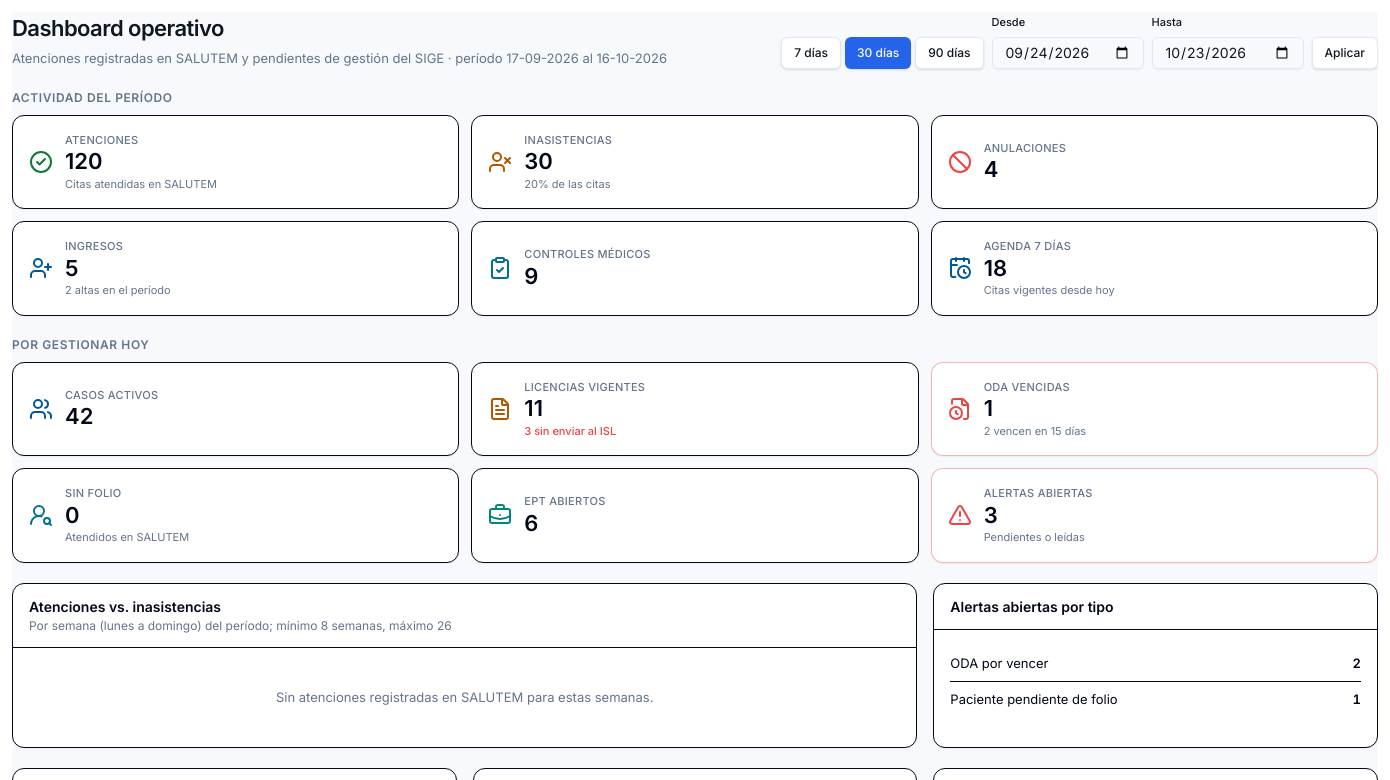
Scenario: DashboardPage › con rango invertido deshabilita Aplicar y avisa
In the date field labelled "Desde": (1068, 52) [992, 36, 1144, 68], type "2999-01-01"
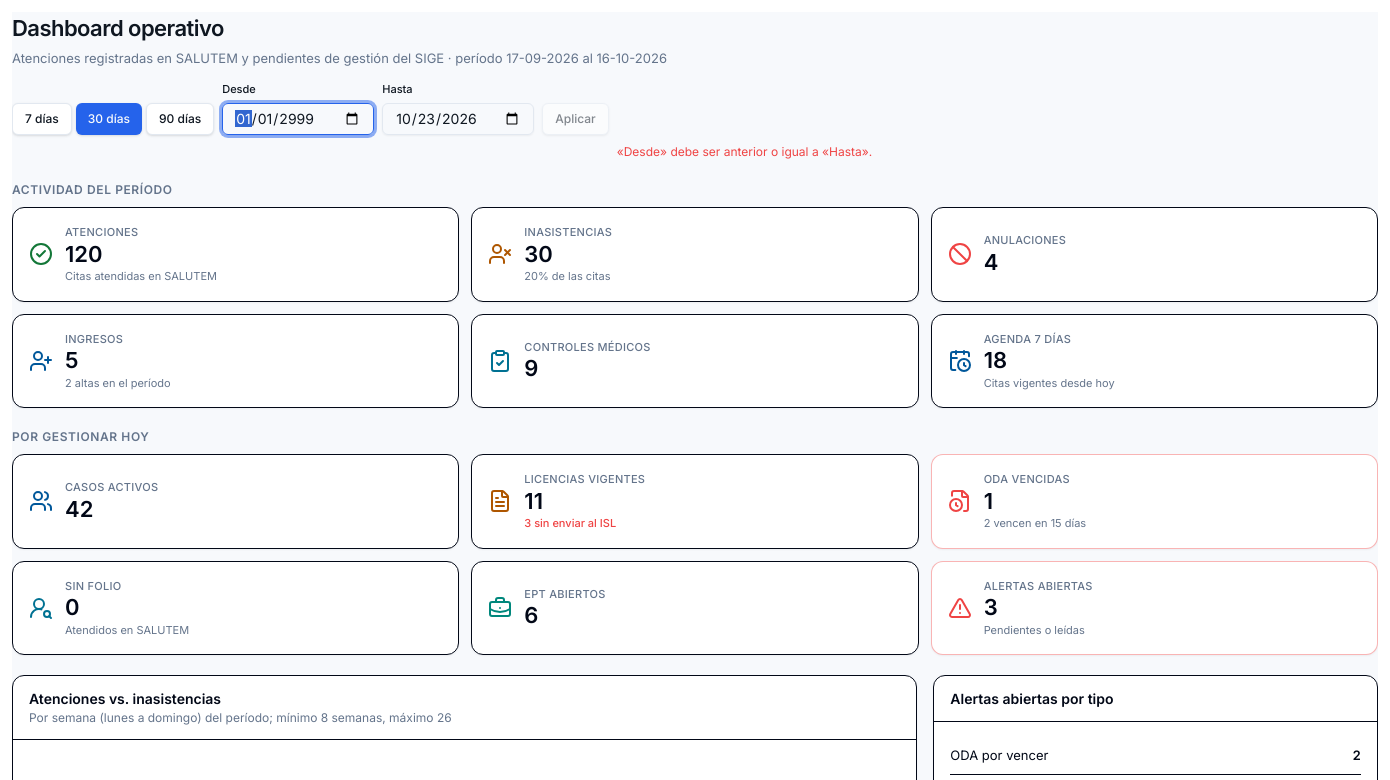
Result: the button with test id "btn-aplicar" is disabled at [542, 103, 609, 135]
Result: the message shows "«Desde» debe ser anterior o igual a «Hasta»" at [617, 144, 872, 159]
